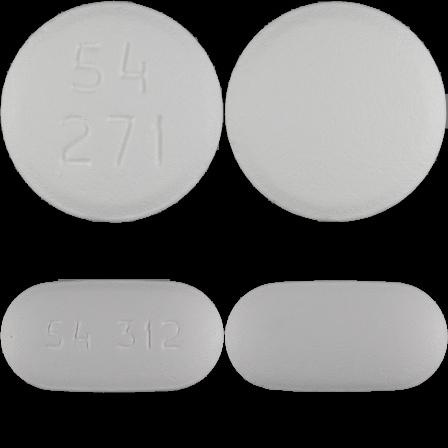0054-0036: (0, 0, 224, 224)
